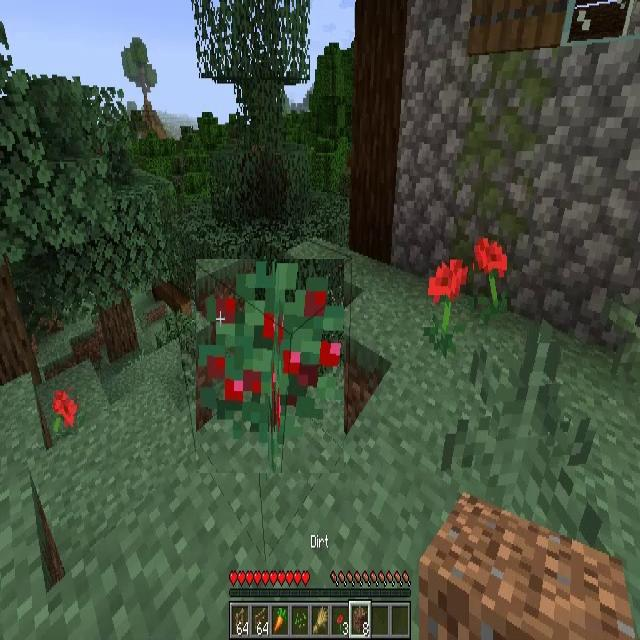flower: (196, 259, 344, 473), (429, 258, 466, 354), (474, 237, 507, 314), (53, 390, 77, 435)
